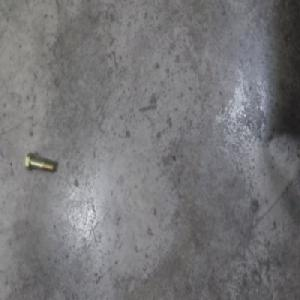Bolt: (26, 157, 56, 181)
